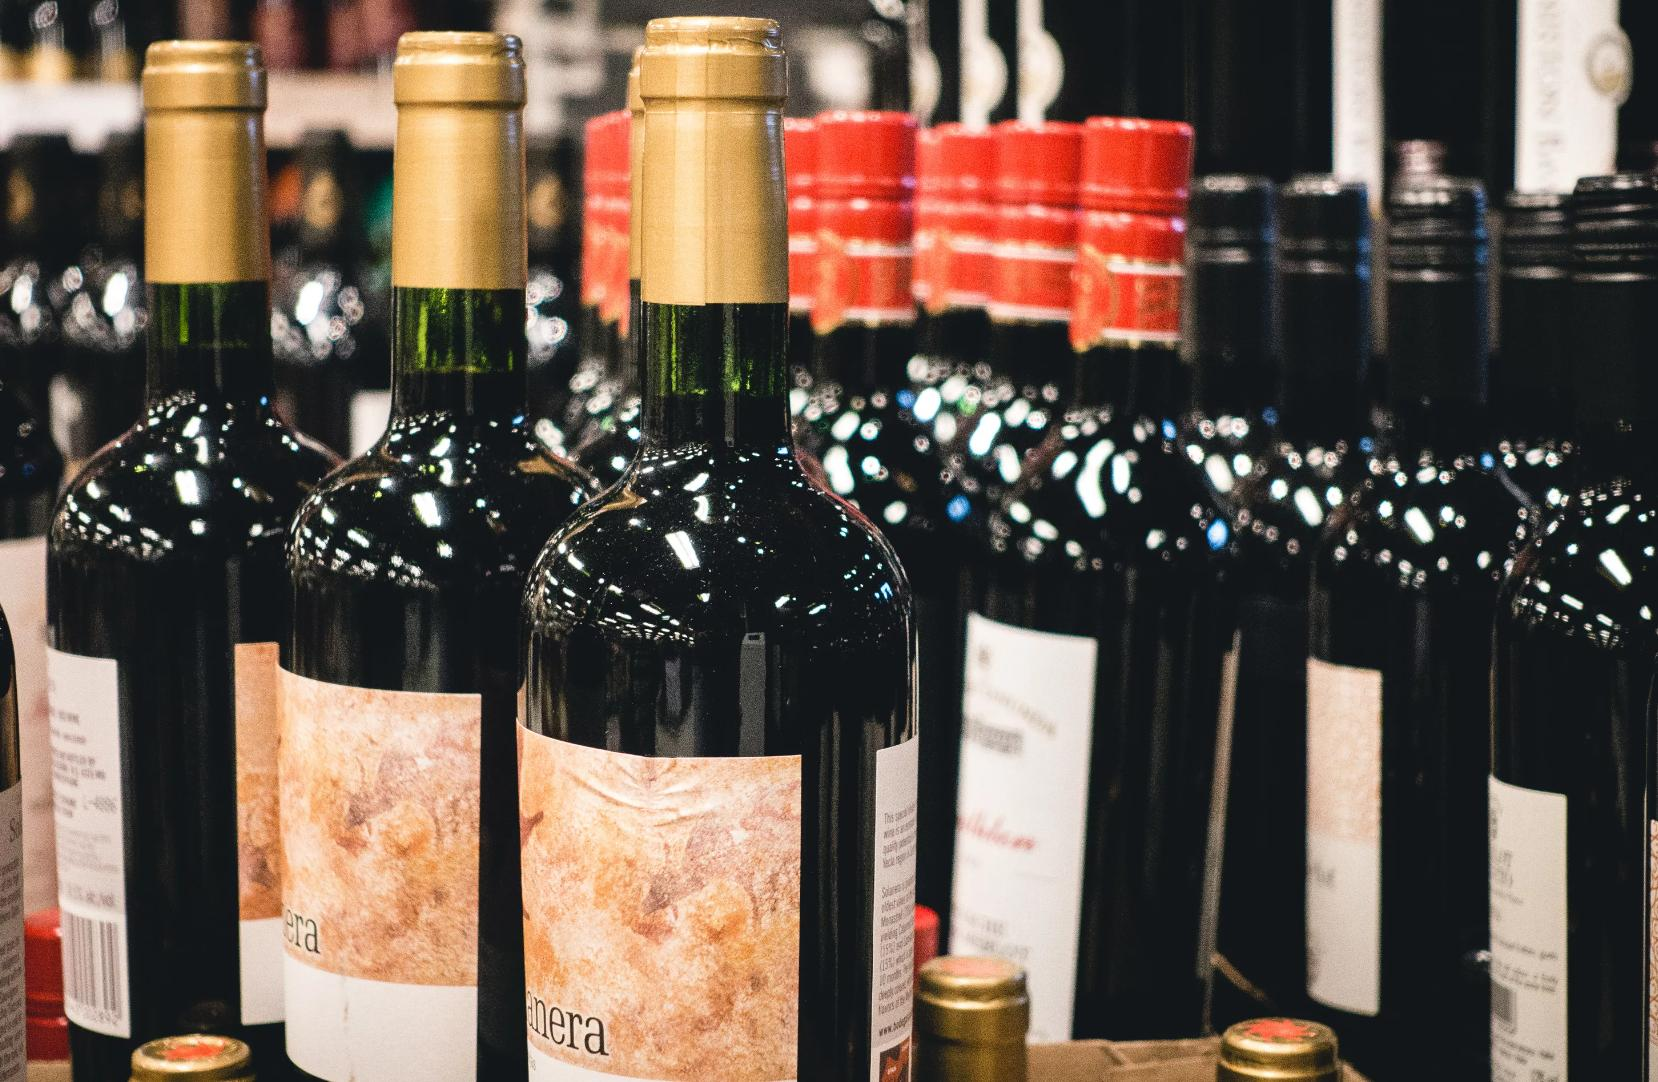wine bottle: (521, 13, 924, 1082), (285, 33, 598, 1078), (40, 40, 337, 1082), (946, 117, 1248, 1041), (1306, 137, 1548, 1081), (789, 110, 992, 942), (1489, 173, 1656, 1082), (1218, 179, 1386, 1035), (1490, 189, 1579, 516)
wine label: (517, 717, 805, 1080), (285, 670, 485, 1082), (952, 604, 1103, 1042), (50, 641, 133, 1040), (1308, 656, 1382, 1018), (1488, 774, 1570, 1082), (234, 640, 286, 1025), (868, 736, 921, 1082)
